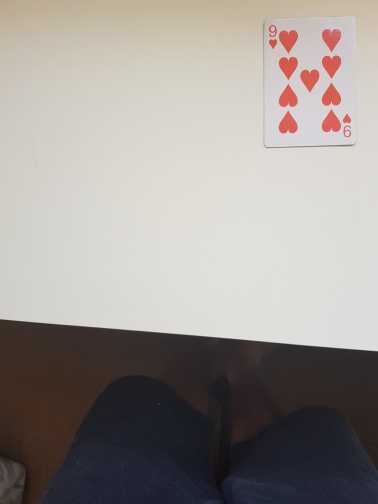nine: (262, 16, 358, 149)
